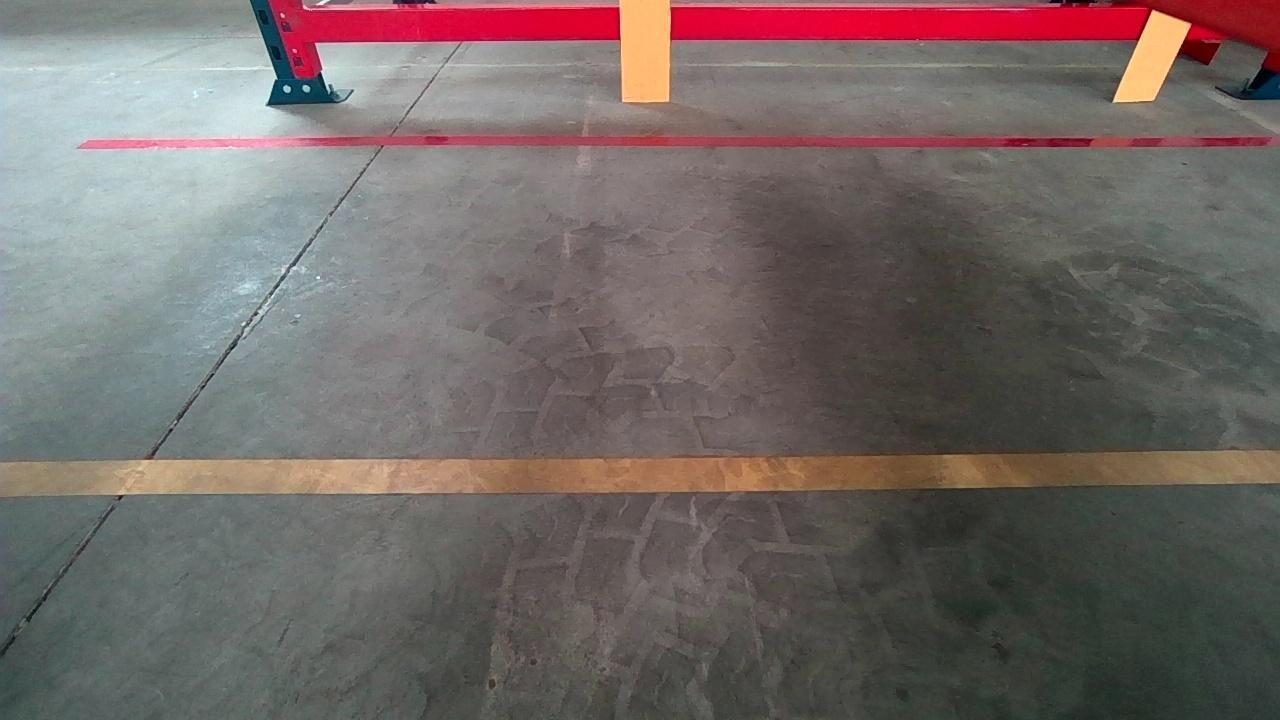red_line: (79, 132, 1280, 152)
yellow_line: (0, 448, 1280, 495)
